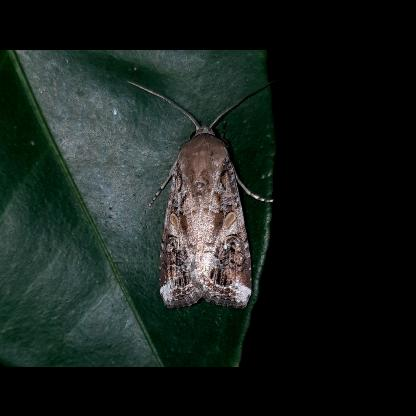Fall Armyworm Moth: (124, 77, 278, 311)
